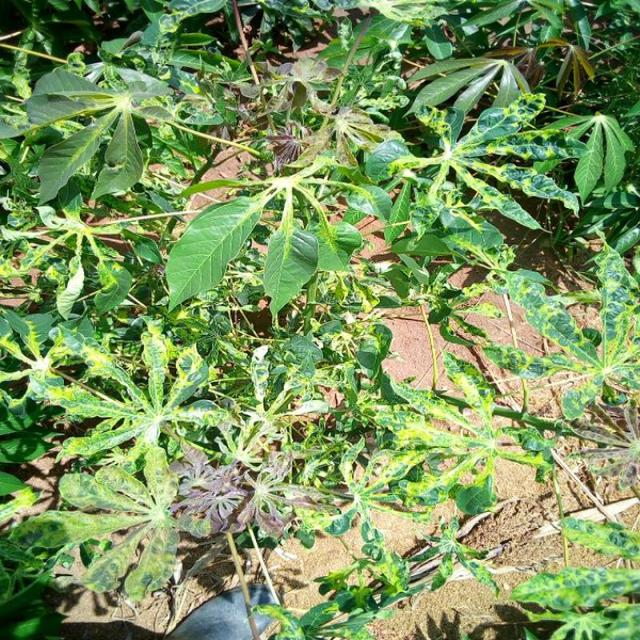cassava leaf: (164, 192, 266, 313), (262, 223, 320, 319)
